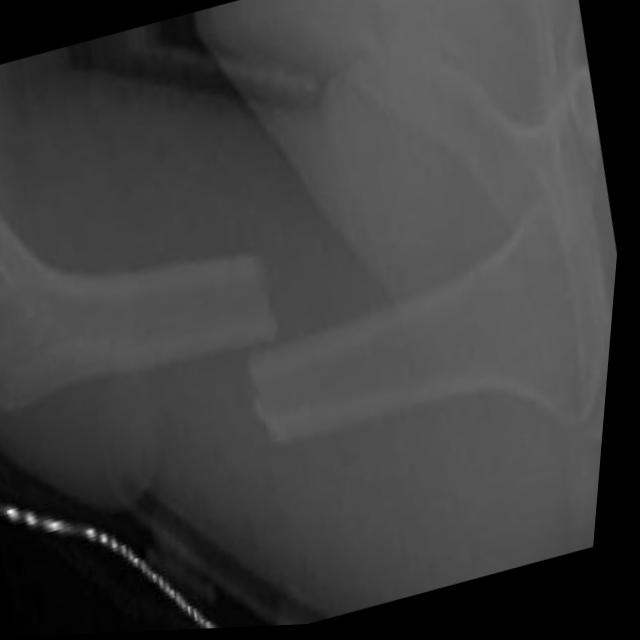fracture: (200, 205, 343, 496)
